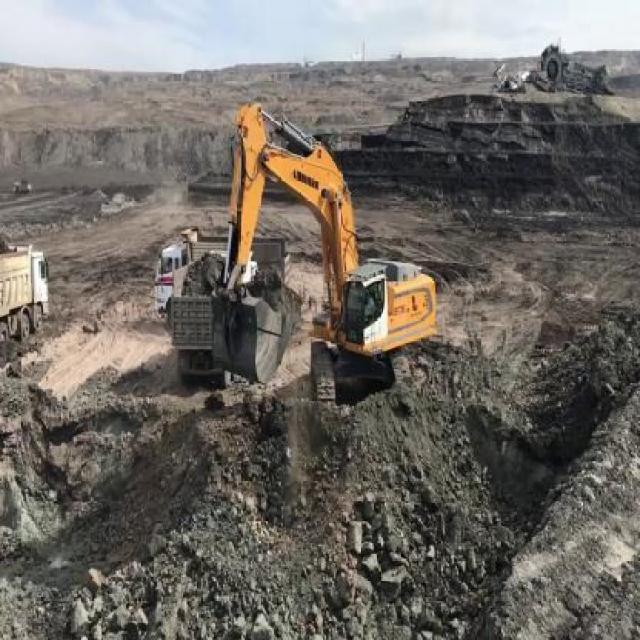Dump Truck: (152, 223, 291, 315), (172, 253, 237, 389), (0, 241, 49, 344)
Excavator: (211, 100, 437, 406)
